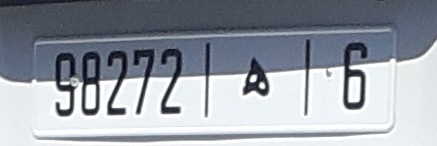2: (157, 42, 188, 122), (102, 46, 130, 125)
6: (335, 35, 375, 117)
7: (130, 43, 161, 119)
8: (77, 48, 103, 122)
9: (49, 48, 77, 118)
h: (237, 44, 277, 104)
